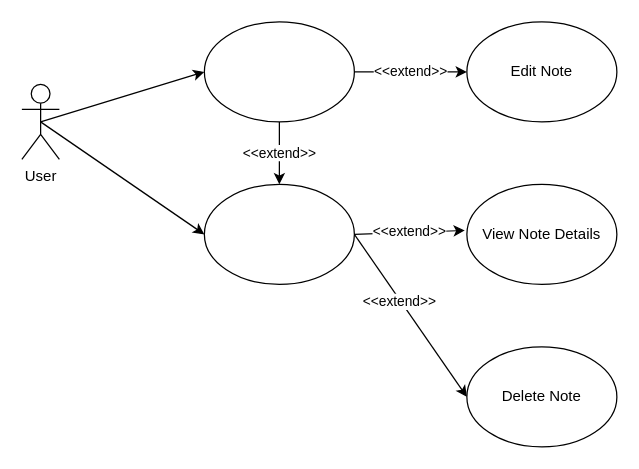
Some shapes in this 639 by 469 pixel diagram are drawn without their labels. Each missing label, with the centre of its shape:
"Create Note" goes at point (278, 71).
"View Notes" goes at point (278, 233).
